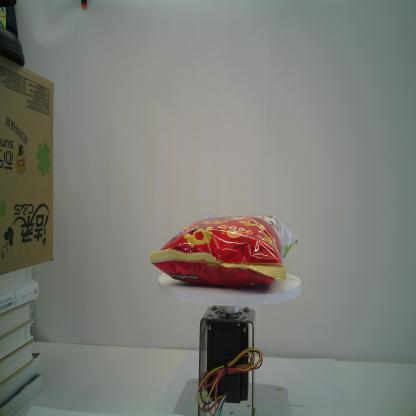Puffed Food: (148, 212, 298, 291)
